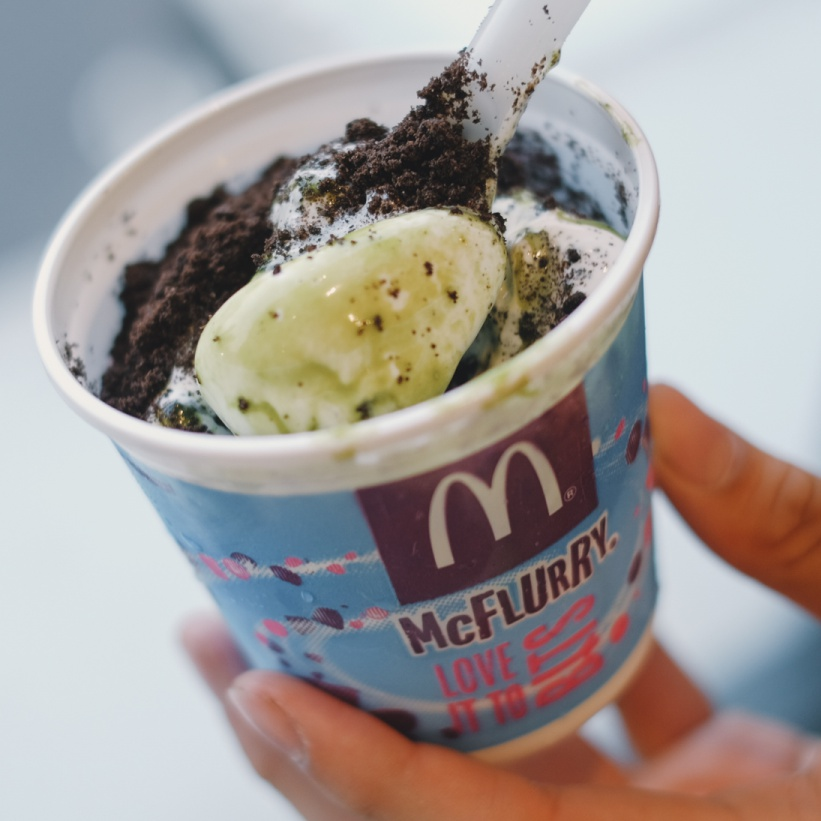mcdonalds: (423, 431, 575, 573)
